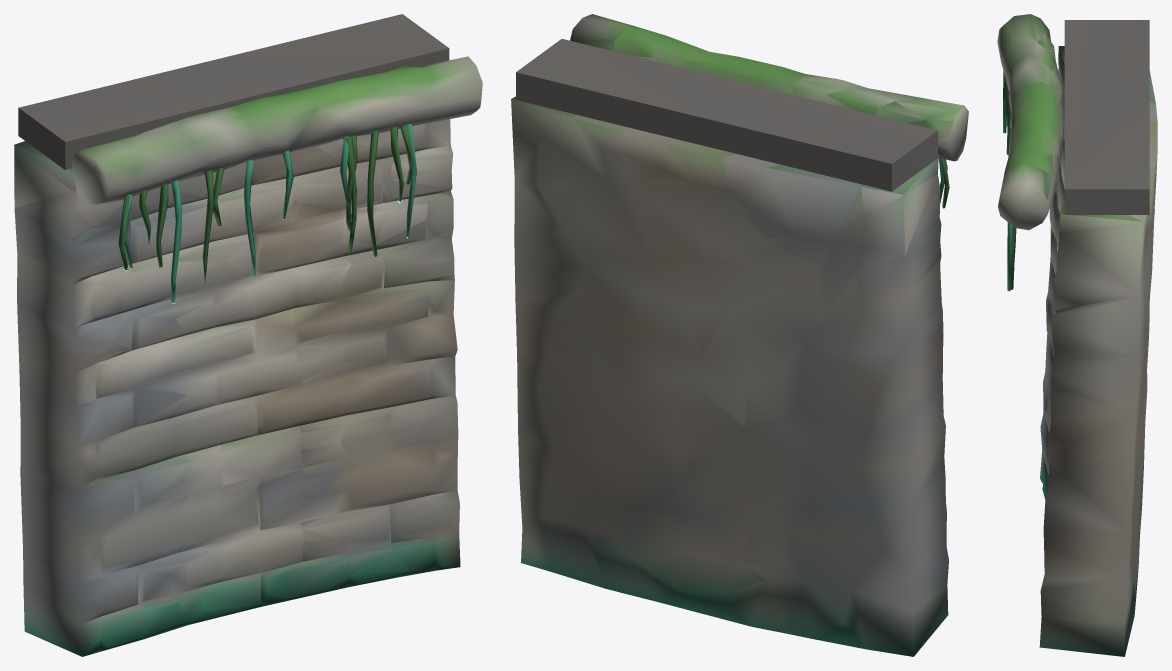
The model's file is grotto_basin_wall_c_lod2.glb.
3 renders of one model, left to right at view 1: azimuth 30°, elevation 25°; view 2: azimuth 150°, elevation 25°; view 3: azimuth 270°, elevation 25°, orthographic. The views are drawn at different scales.
Visible parts, largest first — view 1: grotto_basin_wall_c.001; view 2: grotto_basin_wall_c.001; view 3: grotto_basin_wall_c.001.
Boxes of the visible parts, x1=… form: grotto_basin_wall_c.001: x1=14, y1=14, x2=482, y2=656; grotto_basin_wall_c.001: x1=511, y1=14, x2=968, y2=656; grotto_basin_wall_c.001: x1=997, y1=14, x2=1157, y2=656.
Bounding box in the file's own units: 29.66 × 36.82 × 11.37.
